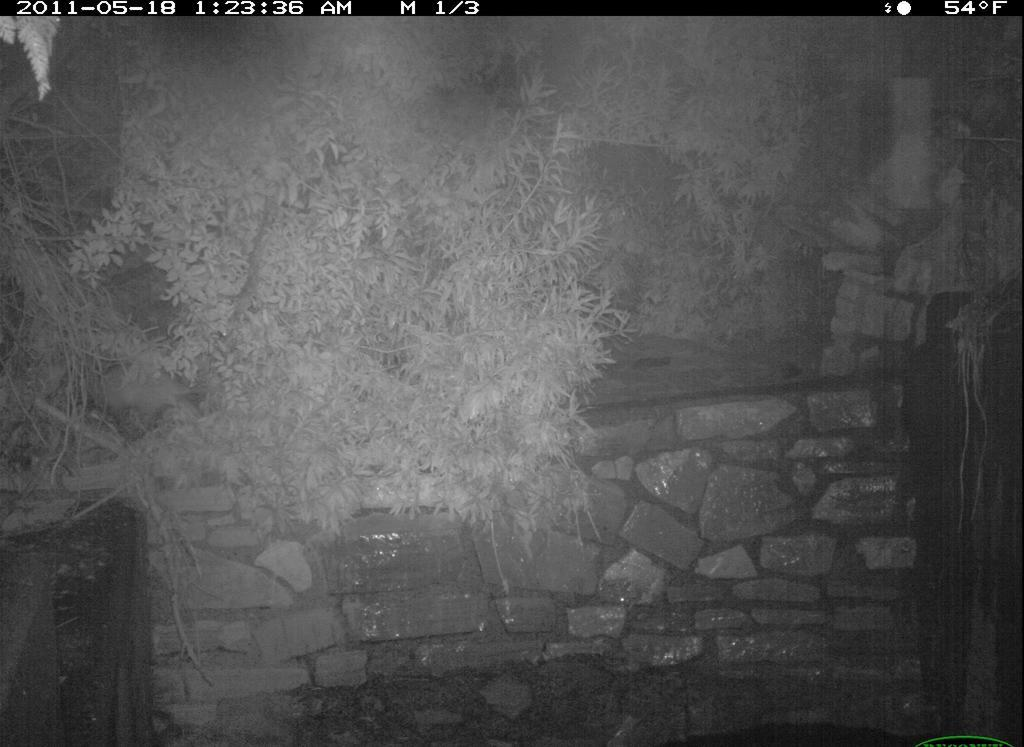opossum: (52, 340, 219, 456)
